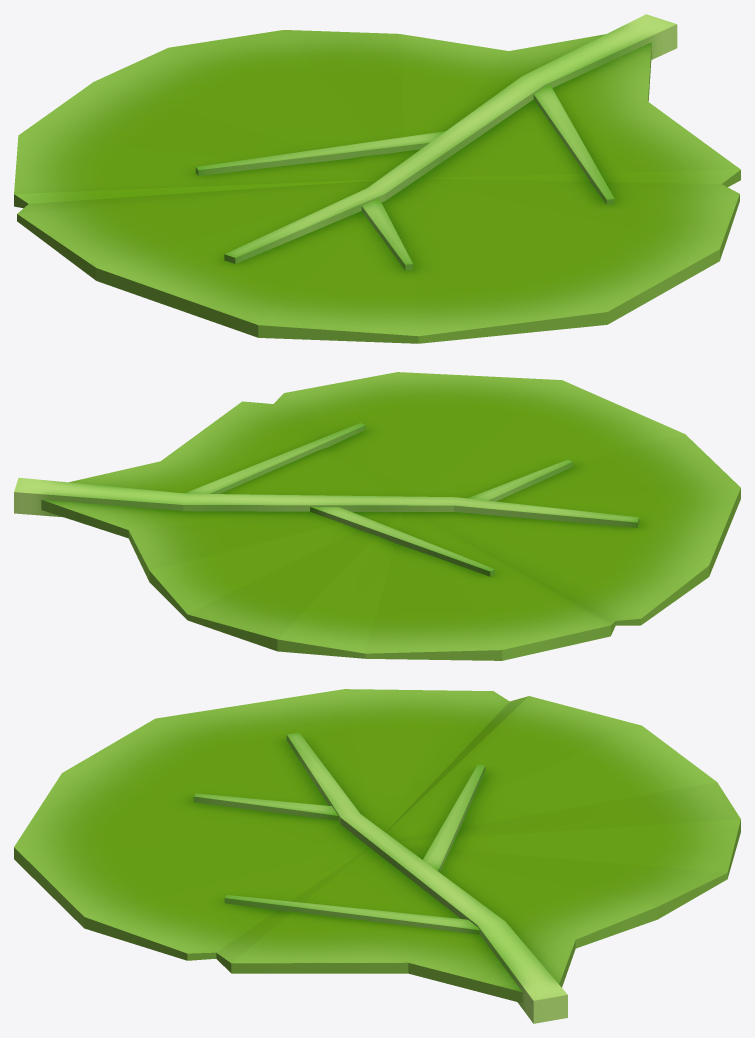
File: Lettuce.fbx
3 renders of one model, top to bottom at view 1: azimuth 30°, elevation 25°; view 2: azimuth 150°, elevation 25°; view 3: azimuth 270°, elevation 25°, orthographic. The views are drawn at different scales.
Parts seen in each view (by area): view 1: polySurface13; view 2: polySurface13; view 3: polySurface13.
Boxes of the visible parts, left/top/right/bottom form: polySurface13: left=14, top=14, right=740, bottom=343; polySurface13: left=14, top=372, right=740, bottom=660; polySurface13: left=14, top=689, right=740, bottom=1023.
Bounding box in the file's own units: 1.31 × 0.0444 × 1.27.
